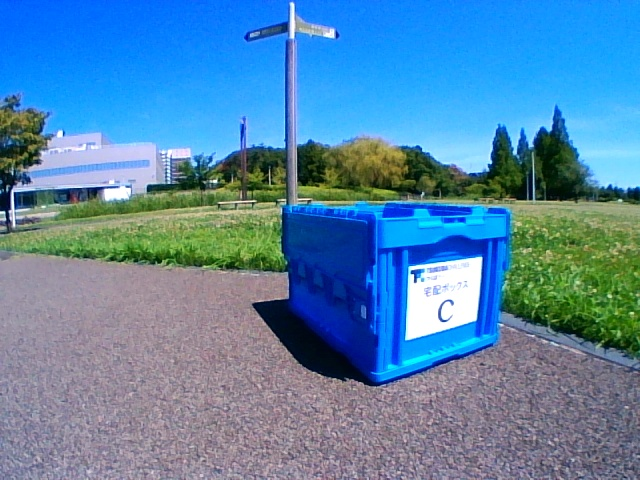blue_box: (285, 205, 497, 342)
tag_c: (412, 269, 470, 323)
